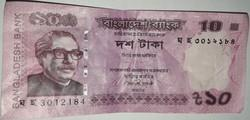10 taka: (7, 4, 246, 112)
